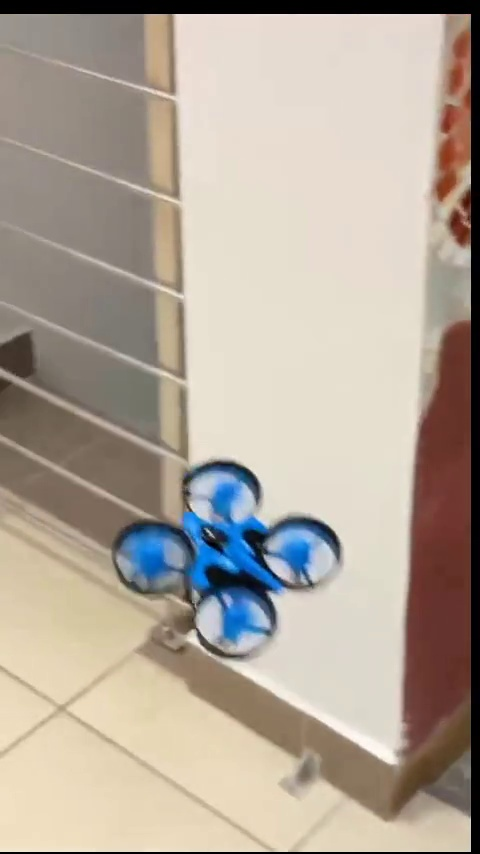drone: (117, 463, 345, 662)
